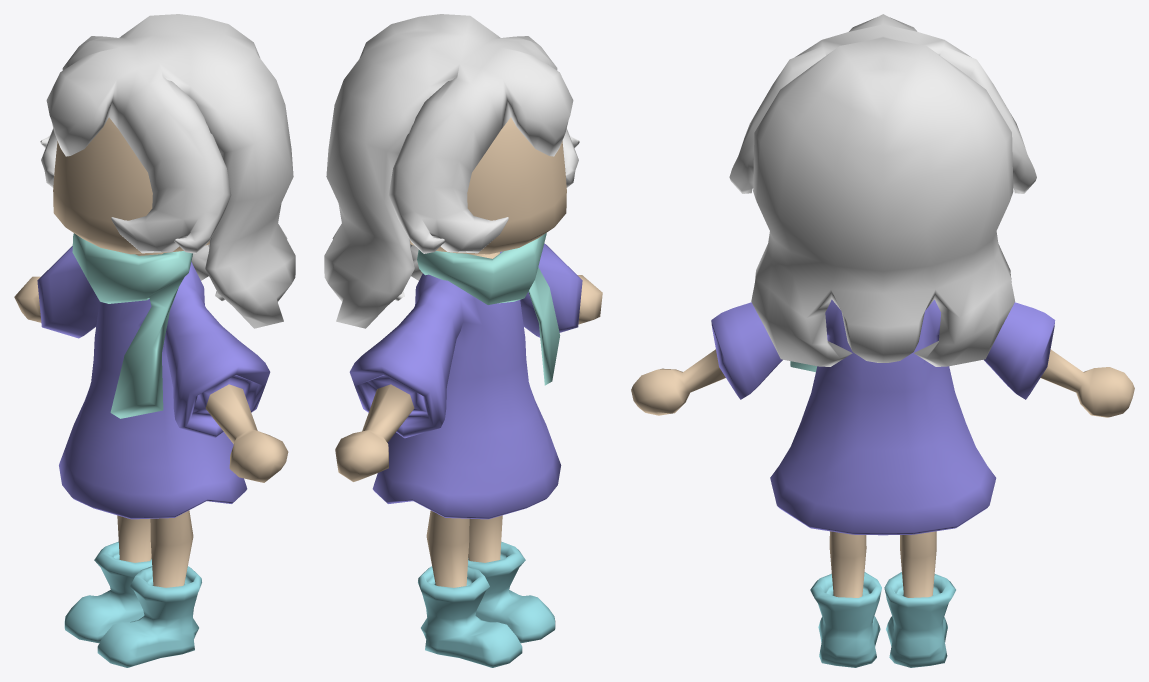
Rendered from C.Sheepgirl.smooth.fbx.
The picture shows the model from 3 angles, left to right: view 1: azimuth 30°, elevation 25°; view 2: azimuth 150°, elevation 25°; view 3: azimuth 270°, elevation 25°; orthographic projection. The views are drawn at different scales.
Parts seen in each view (by area): view 1: Cube.001; view 2: Cube.001; view 3: Cube.001.
Boxes of the visible parts, <box> form: Cube.001: <box>14,14,295,667</box>; Cube.001: <box>324,14,602,667</box>; Cube.001: <box>631,14,1134,667</box>.
Size of the model in its own units: 315 by 781 by 574.
